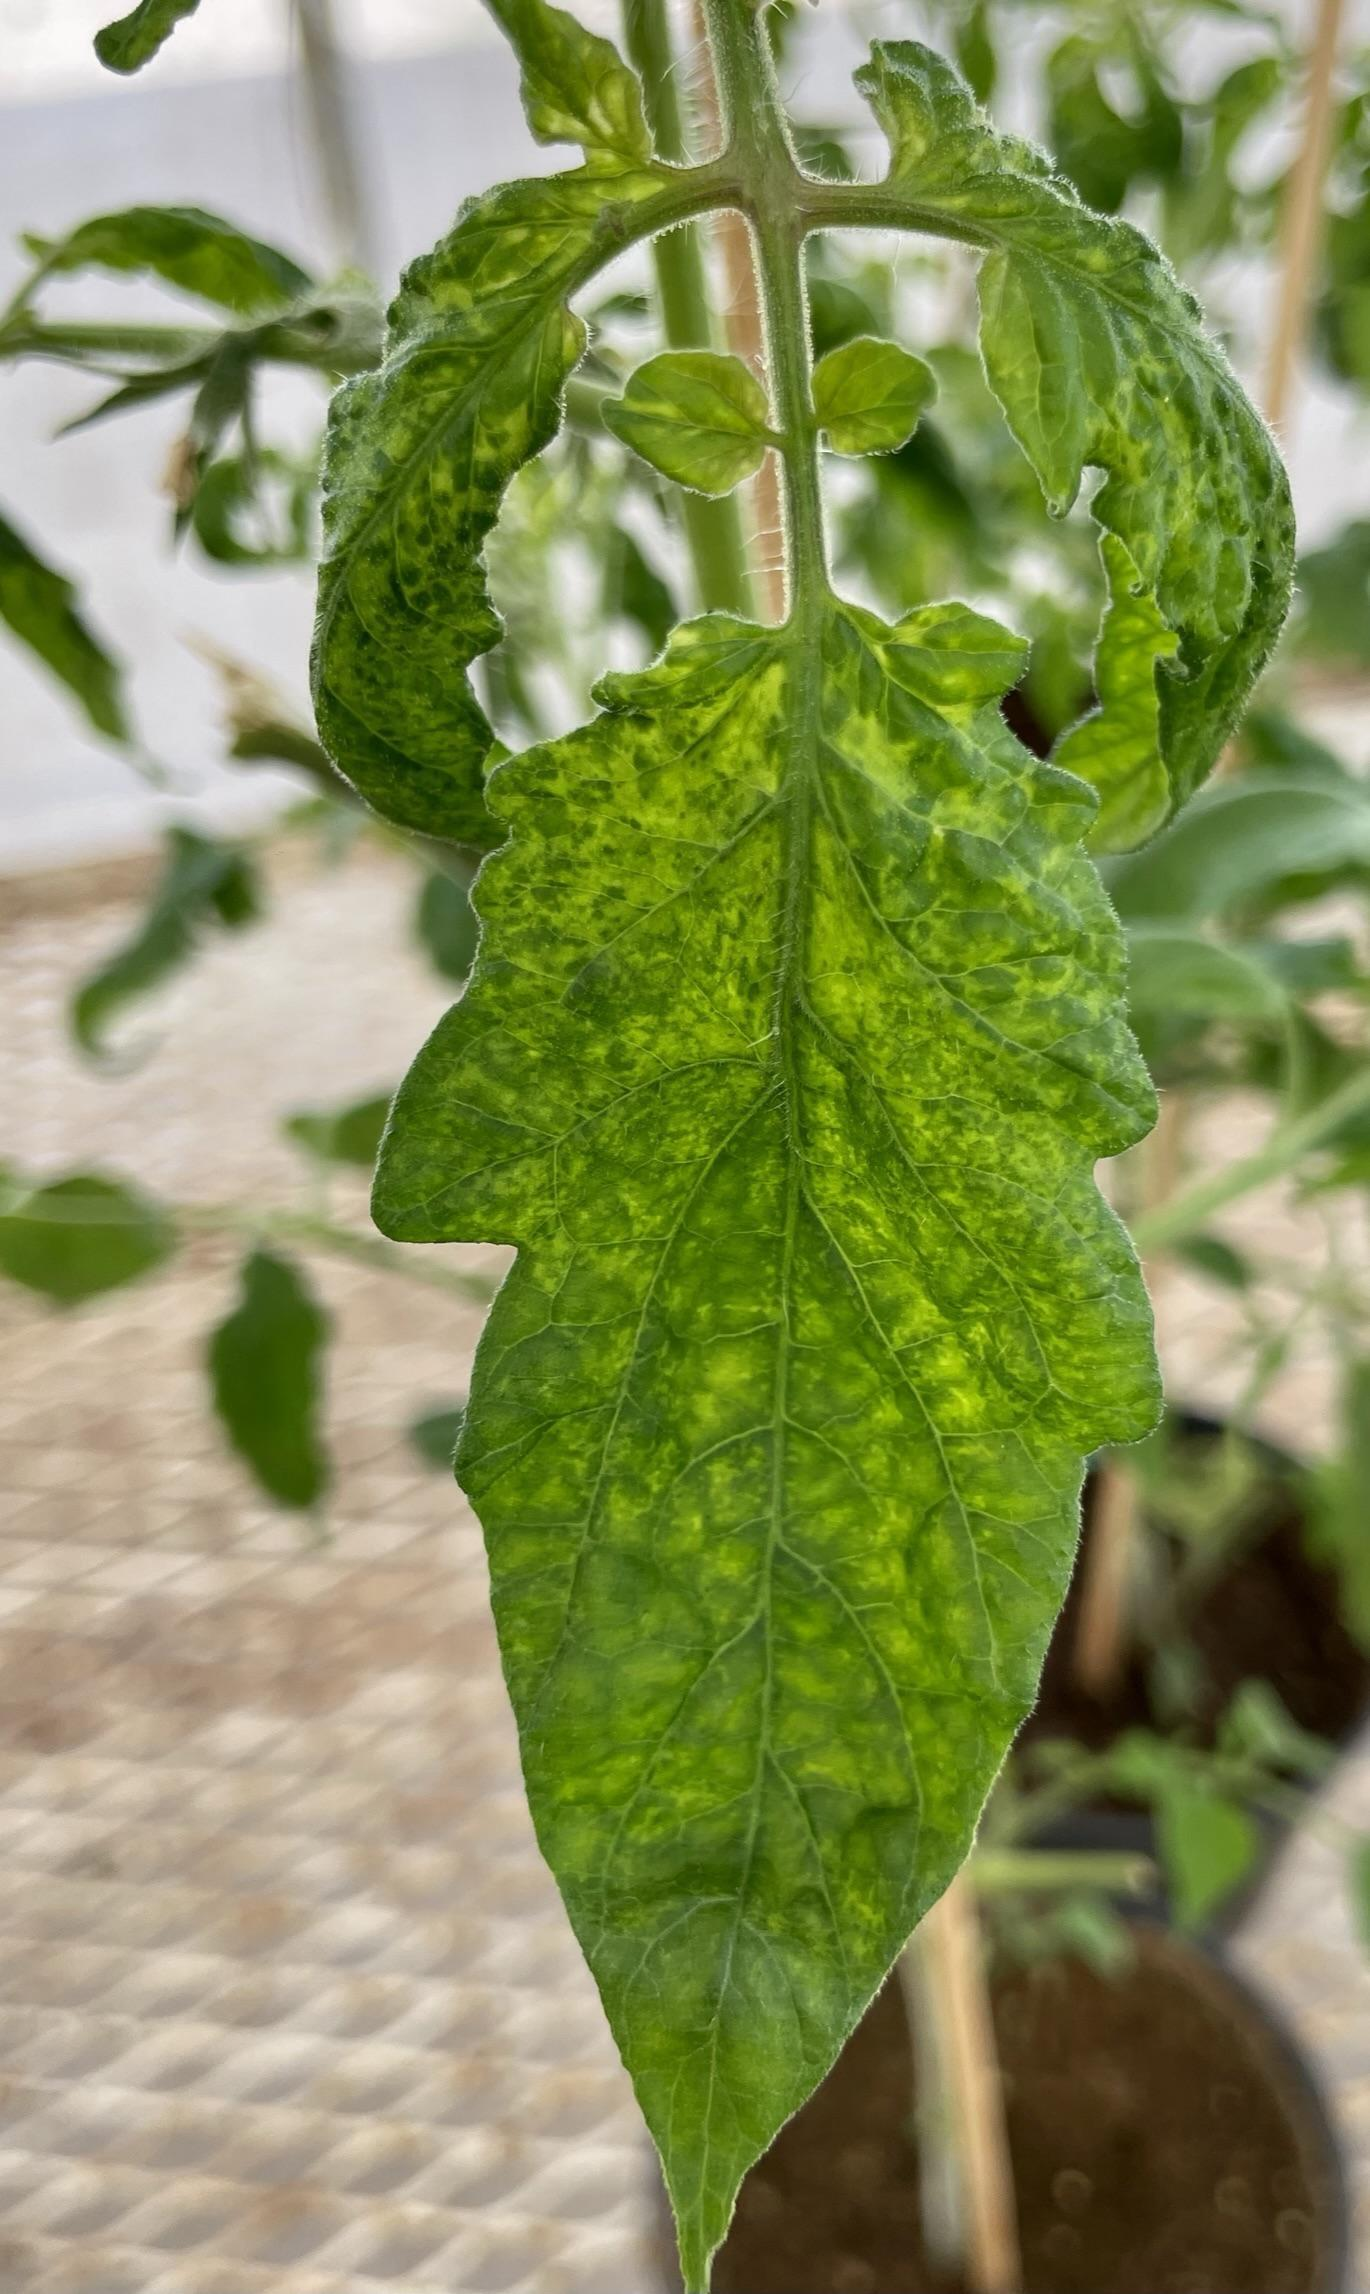Hoja rugoso: (377, 592, 1161, 2283), (815, 44, 1295, 846), (313, 166, 664, 843), (488, 0, 654, 166), (605, 349, 780, 497), (811, 336, 936, 457)
Pedunculo rugoso: (703, 0, 860, 610)
